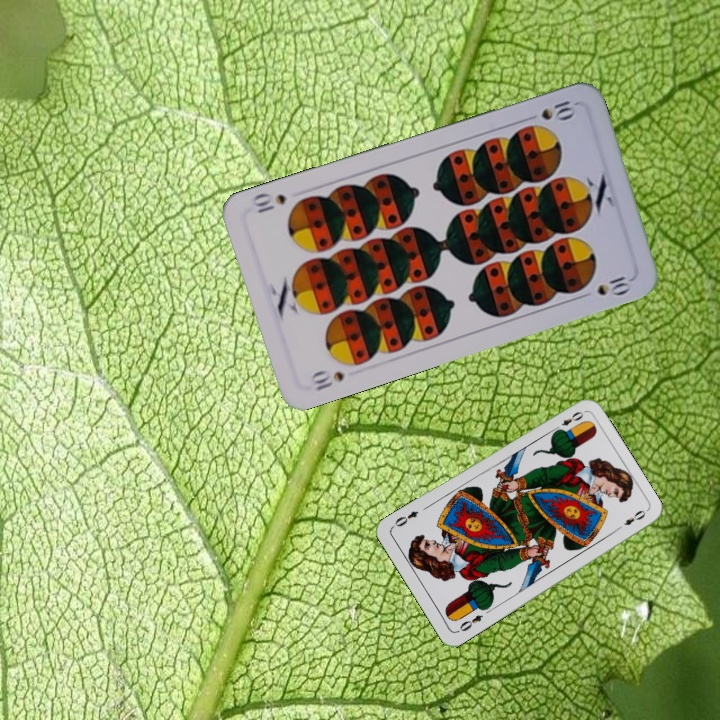EO: (549, 407, 586, 434), (453, 611, 486, 635)
S10: (537, 96, 579, 123), (306, 367, 347, 393)
